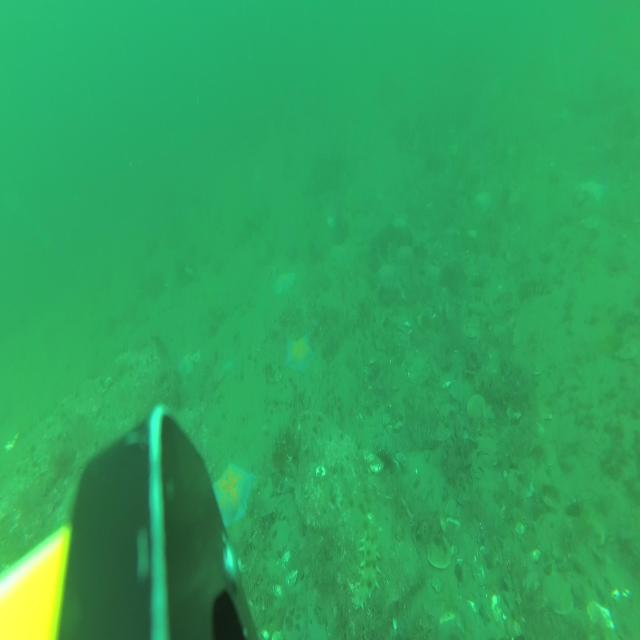echinus: (373, 438, 397, 474)
holothurian: (352, 528, 382, 614), (516, 274, 554, 304)
scallop: (540, 570, 576, 618), (424, 530, 453, 573), (504, 464, 536, 500), (581, 515, 607, 548), (408, 472, 431, 501), (541, 481, 562, 512), (466, 392, 486, 420), (614, 341, 637, 362), (459, 321, 480, 341), (526, 356, 544, 378), (267, 364, 282, 384), (465, 311, 481, 329), (483, 403, 496, 422)
starfish: (209, 460, 256, 533), (283, 332, 318, 378), (577, 174, 610, 204), (270, 271, 298, 301), (178, 351, 202, 378), (377, 261, 396, 289), (474, 189, 494, 215)
